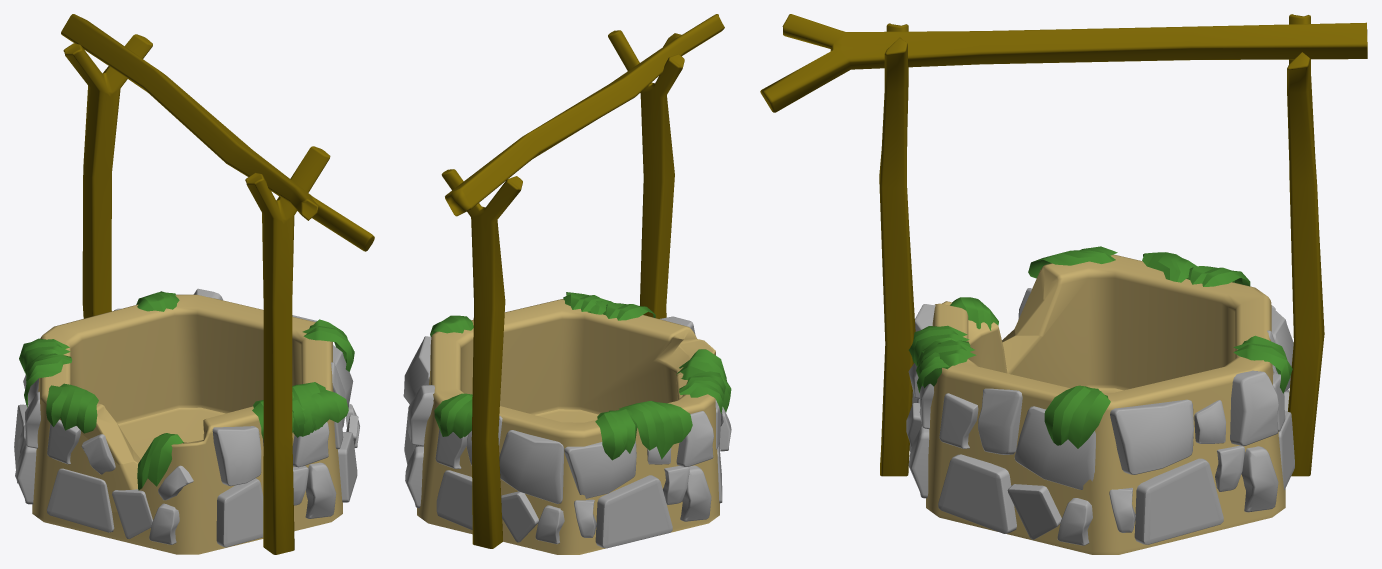
The model's file is MSH_Static_Well_v2.fbx.
3 renders of one model, left to right at view 1: azimuth 30°, elevation 25°; view 2: azimuth 150°, elevation 25°; view 3: azimuth 270°, elevation 25°, orthographic. The views are drawn at different scales.
Visible parts, largest first — view 1: wellDestroyed, Static_B_0008:Stand_stick, Static_B_0008:Stand_stick2, Static_B_0008:Stand_stick1, pCube283 (×2), pCube265, pCube267, polySurface209 (×2), Moss10, polySurface200 (×2), pCube284, Moss9 (+12 smaller); view 2: wellDestroyed, Static_B_0008:Stand_stick1, Static_B_0008:Stand_stick, Static_B_0008:Stand_stick2, pCube265, pCube267 (×2), pCube285, polySurface200 (×2), Moss7, polySurface209 (×2), pCube283, Moss8 (+11 smaller); view 3: wellDestroyed, Static_B_0008:Stand_stick2, Static_B_0008:Stand_stick, Static_B_0008:Stand_stick1, pCube265, pCube283 (×2), pCube267, pCube285 (×2), polySurface200, polySurface209 (×2), Moss15, polySurface198 (+13 smaller).
Boxes of the visible parts, box(x1,y1,x2,y2) form: wellDestroyed: box(32, 294, 342, 554); Static_B_0008:Stand_stick: box(245, 146, 330, 554); Static_B_0008:Stand_stick2: box(61, 14, 374, 251); Static_B_0008:Stand_stick1: box(63, 34, 152, 318); pCube283 (×2): box(47, 432, 357, 532); pCube265: box(216, 478, 263, 547); pCube267: box(212, 426, 261, 486); polySurface209 (×2): box(15, 444, 336, 518); Moss10: box(46, 383, 98, 433); polySurface200 (×2): box(25, 391, 329, 467); pCube284: box(112, 489, 152, 538); Moss9: box(137, 433, 183, 490); wellDestroyed: box(417, 299, 719, 554); Static_B_0008:Stand_stick1: box(441, 169, 522, 548); Static_B_0008:Stand_stick: box(608, 30, 684, 318); Static_B_0008:Stand_stick2: box(445, 14, 724, 216); pCube265: box(595, 475, 672, 548); pCube267 (×2): box(403, 336, 636, 498); pCube285: box(499, 430, 563, 503); polySurface200 (×2): box(408, 385, 713, 466); Moss7: box(619, 401, 692, 459); polySurface209 (×2): box(405, 446, 711, 521); pCube283: box(436, 470, 472, 530); Moss8: box(595, 409, 637, 460); wellDestroyed: box(926, 254, 1285, 554); Static_B_0008:Stand_stick2: box(760, 14, 1367, 112); Static_B_0008:Stand_stick: box(879, 23, 915, 476); Static_B_0008:Stand_stick1: box(1287, 14, 1324, 476); pCube265: box(1134, 458, 1223, 544); pCube283 (×2): box(938, 411, 1294, 533); pCube267: box(1110, 399, 1193, 474); pCube285 (×2): box(1014, 307, 1293, 489); polySurface200: box(1230, 370, 1278, 446); polySurface209 (×2): box(908, 426, 1278, 512); Moss15: box(1044, 385, 1110, 448); polySurface198: box(978, 388, 1022, 454).
Bounding box in the file's own units: 12.16 × 14.22 × 17.28.
